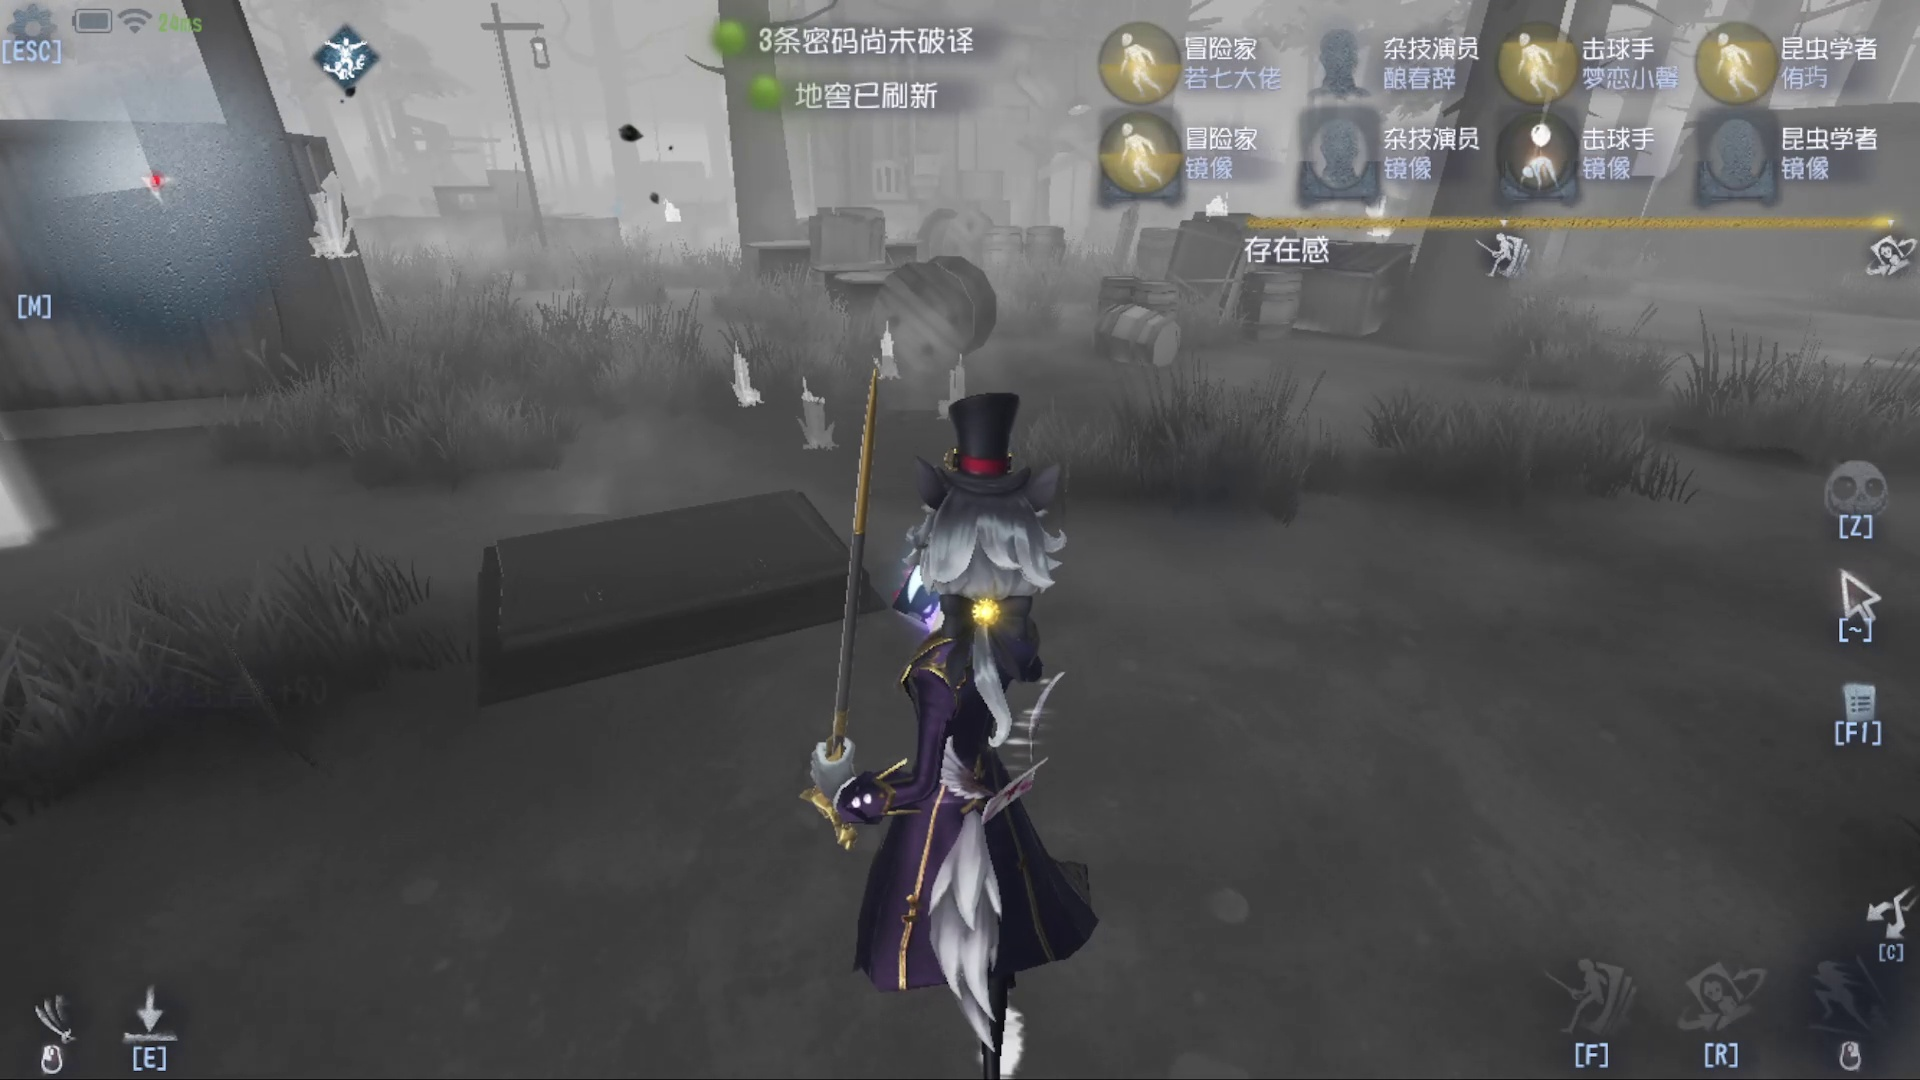狂欢之椅: (287, 165, 363, 282), (731, 335, 767, 431)
